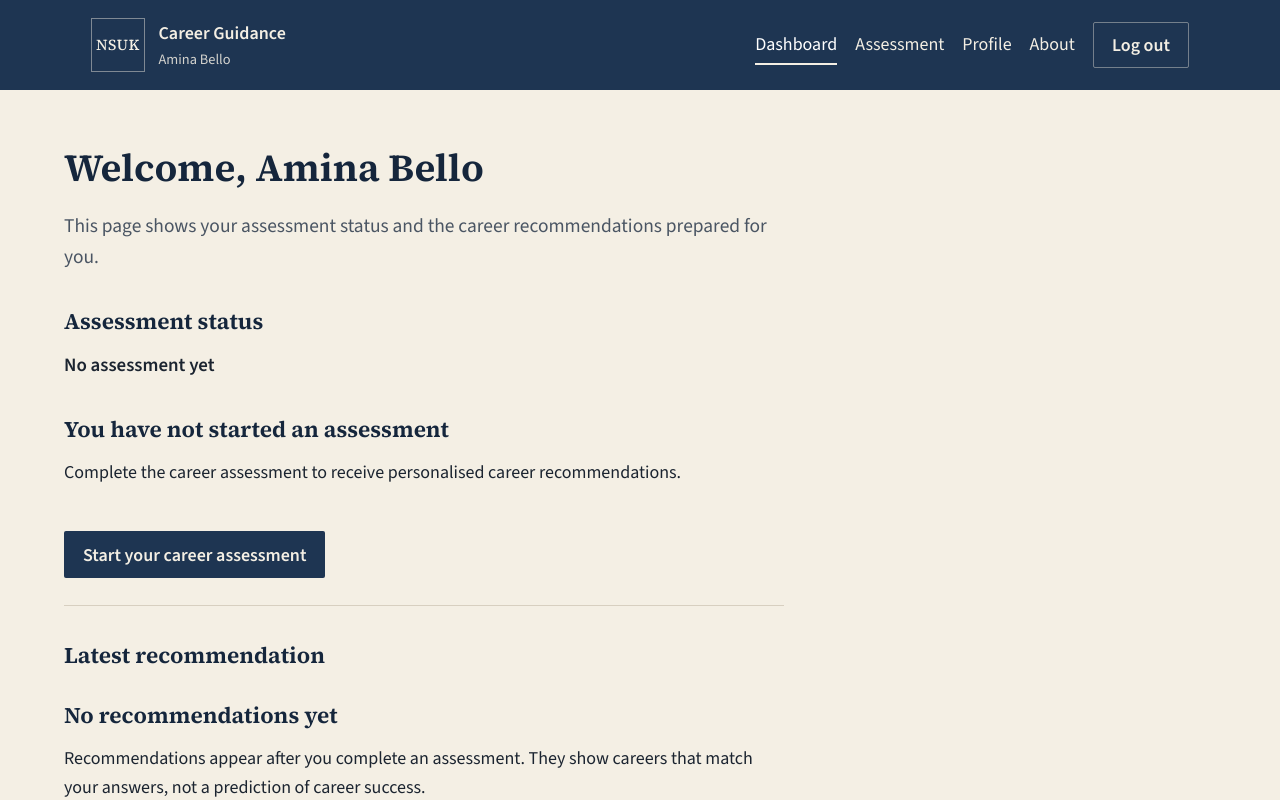
Test case: logout clears the session and returns to the public site
The image size is (1280, 800).
Expected: the heading "Welcome, Amina Bello" is shown, [64,141,484,194]
Click the button "Log out" at (1141, 45), box [1093,22,1189,68]
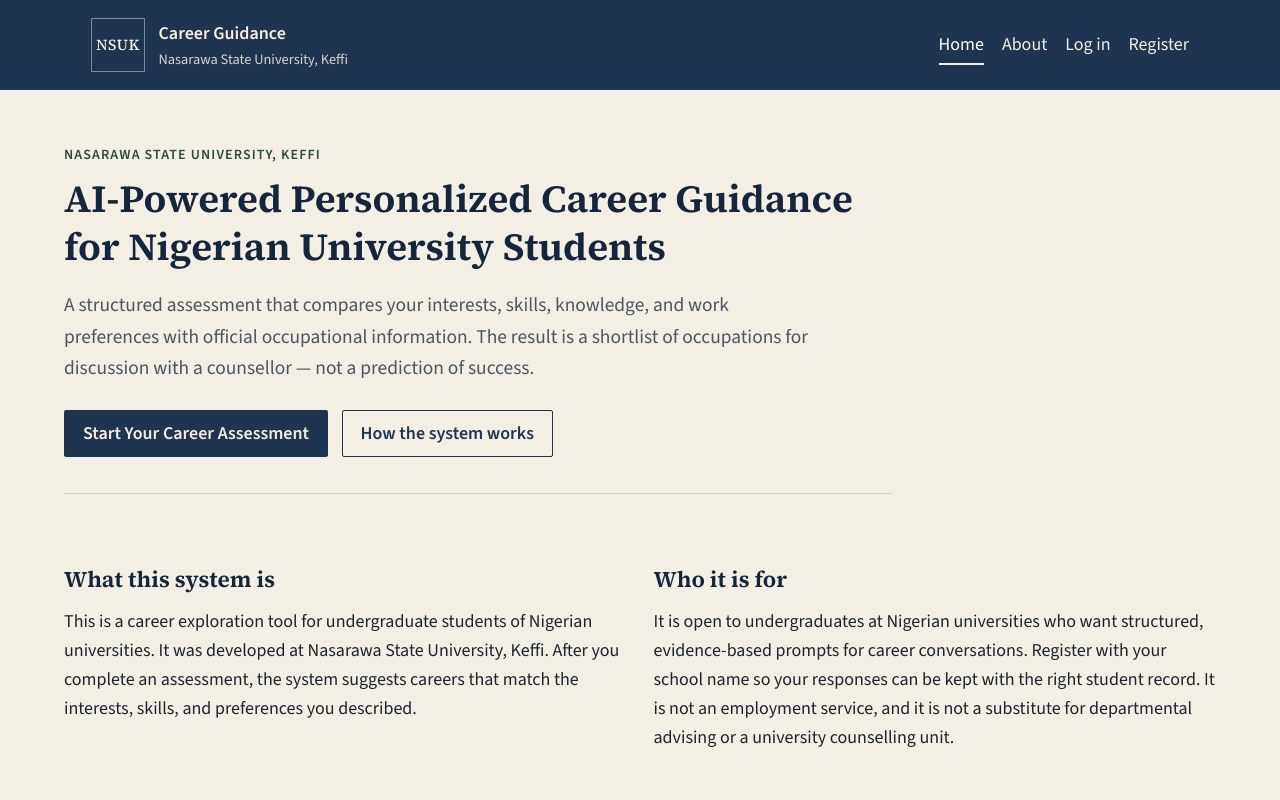
Expected: the heading "AI-Powered Personalized Career Guidance for Nigerian University Students" is shown, [64,176,892,272]
Expected: the link "Log in" is shown, [1065,25,1110,65]
